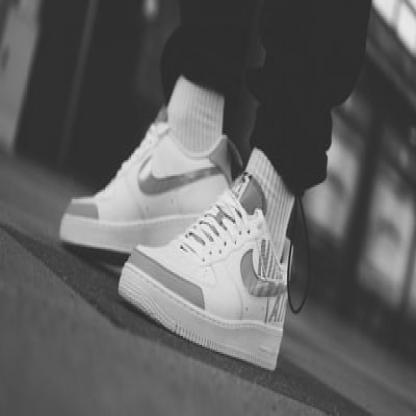ankle: (274, 236, 280, 248), (202, 133, 205, 144)
heel: (276, 323, 282, 337), (214, 191, 219, 200)
left_foot: (120, 203, 288, 373)
pinky: (187, 287, 196, 300), (82, 200, 85, 204)
right_foot: (61, 122, 231, 249)
toe: (136, 254, 140, 259), (94, 215, 97, 219)
